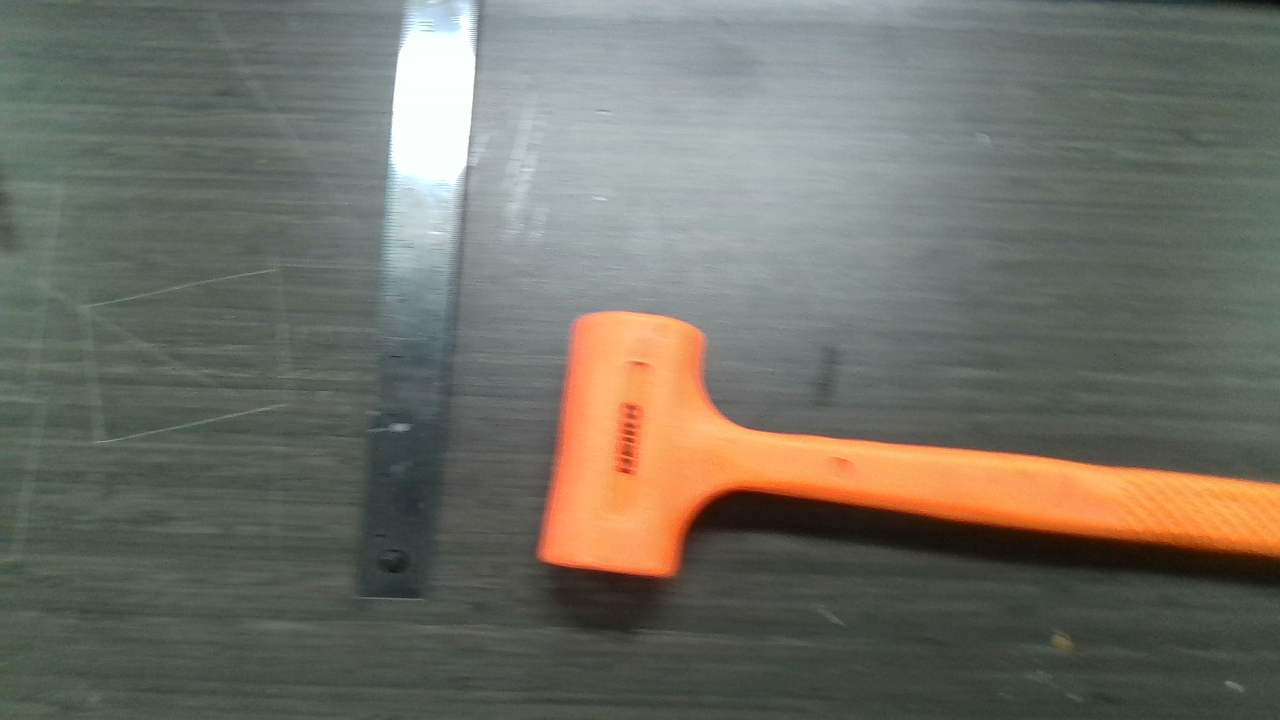Orange Hammer: (545, 311, 1270, 588)
